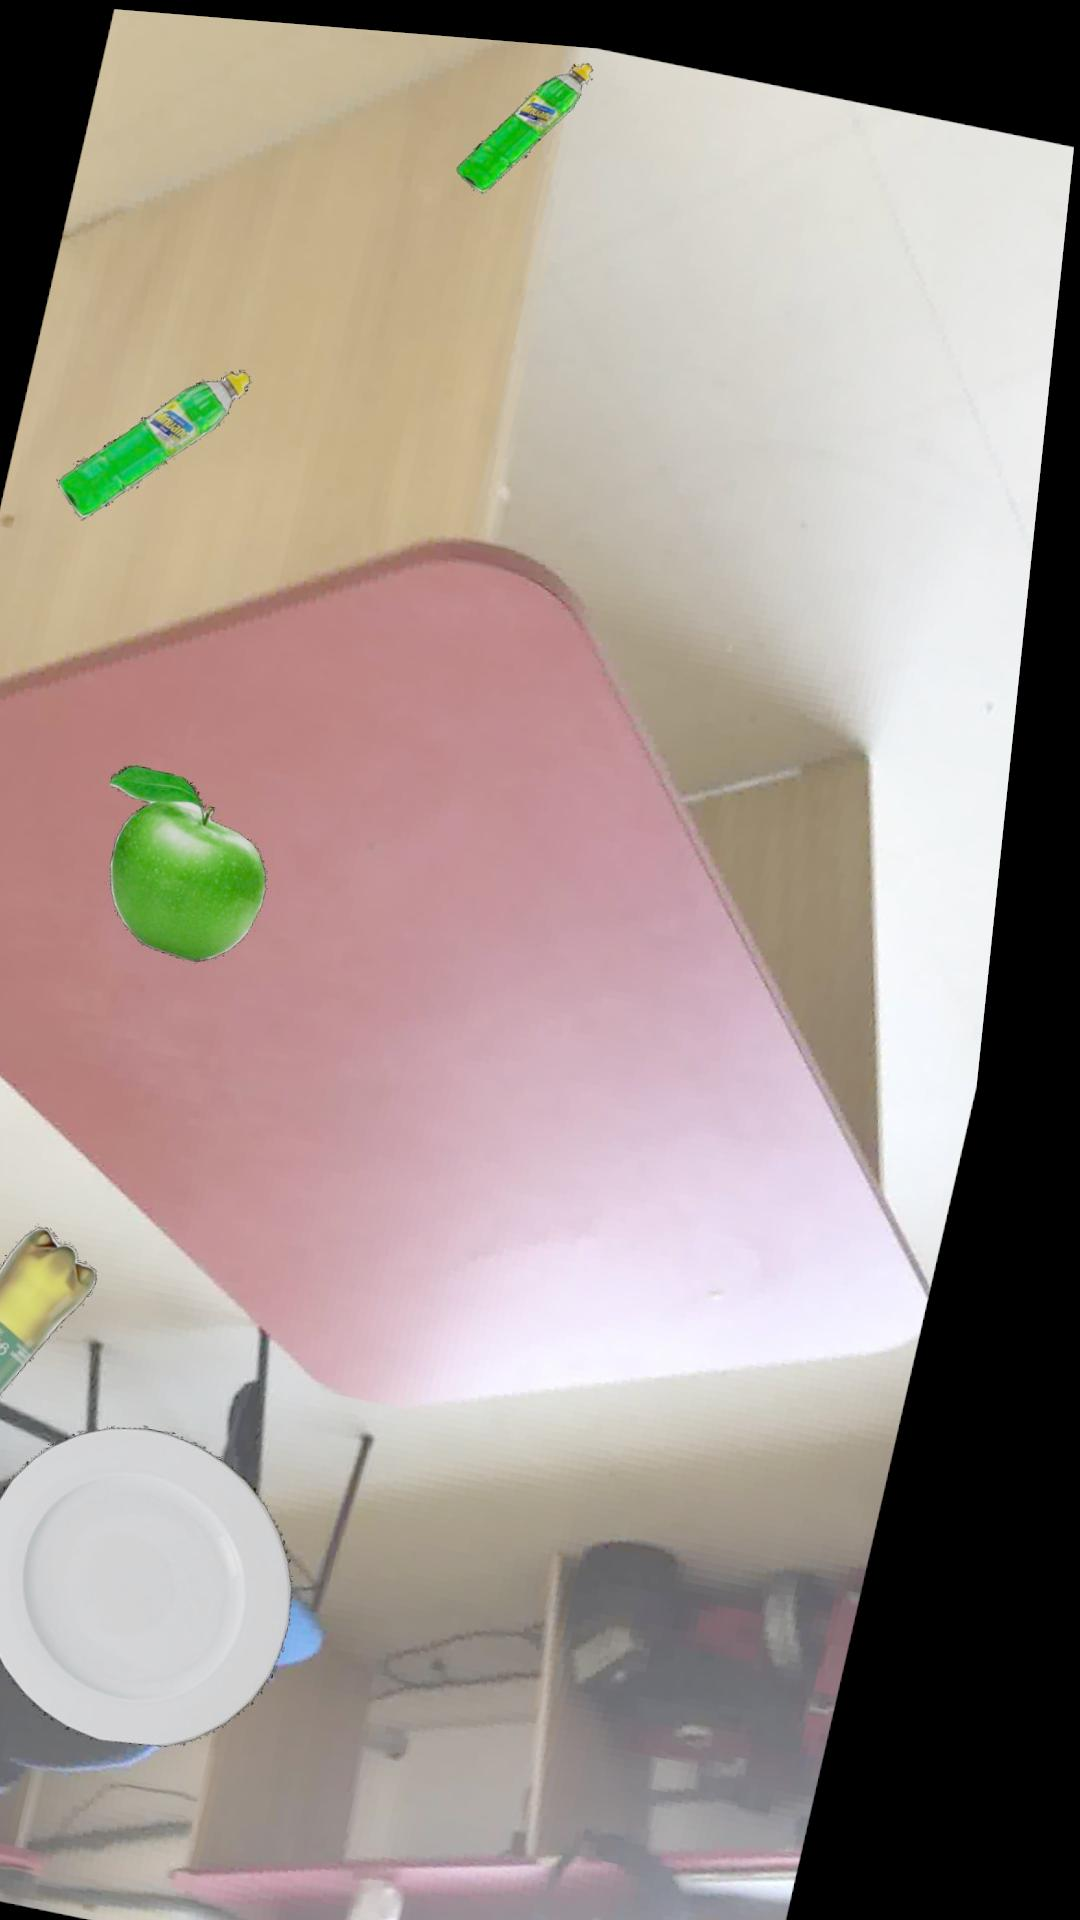cleaner: (67, 368, 256, 518), (456, 54, 591, 186)
green apple: (124, 762, 284, 957)
guarana: (0, 1225, 123, 1420)
plate: (8, 1423, 324, 1742)
